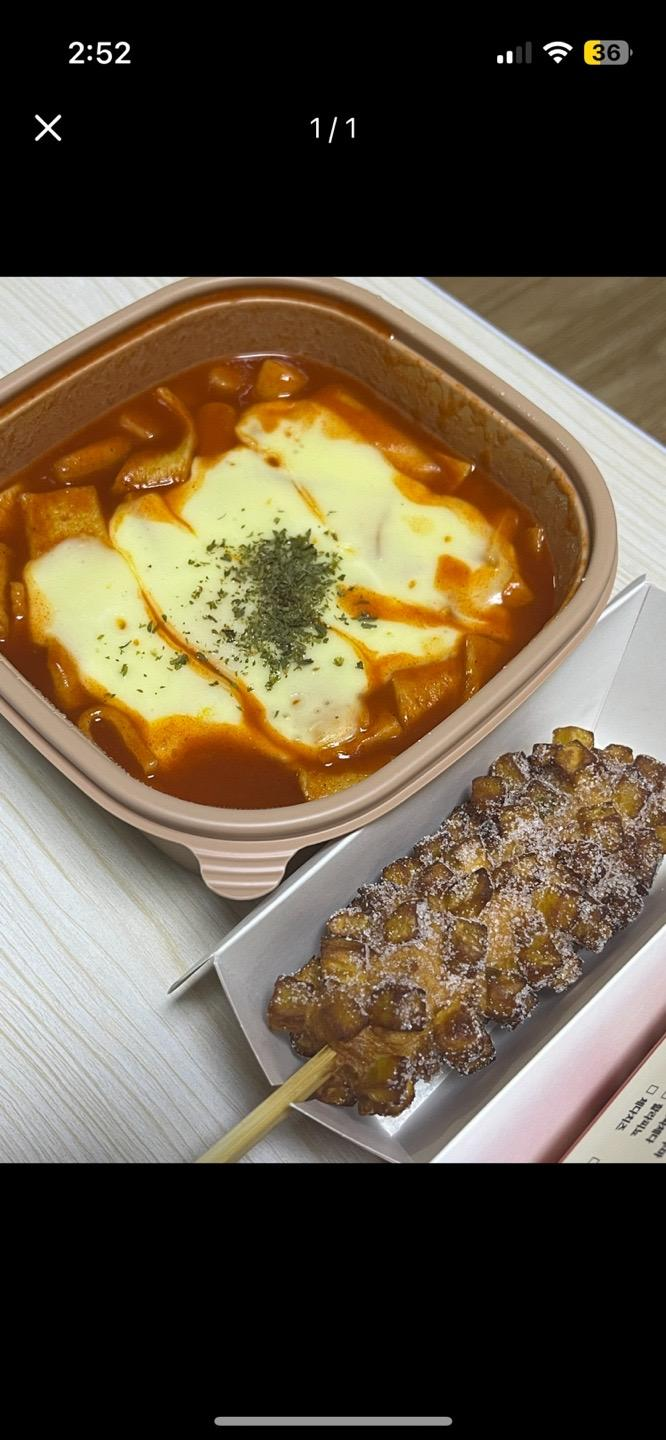Lunch Box: (0, 278, 616, 897), (196, 585, 665, 1162)
